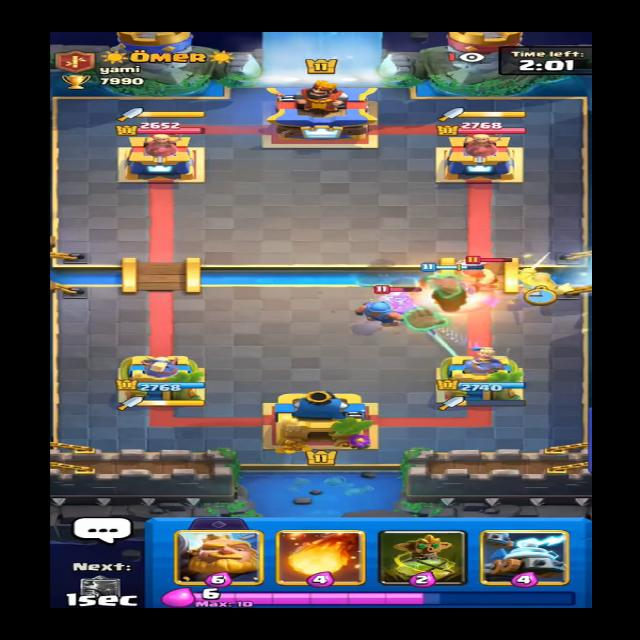lumberjack: (456, 252, 518, 288)
monk: (368, 283, 423, 318)
monk-ability: (368, 283, 419, 320)
